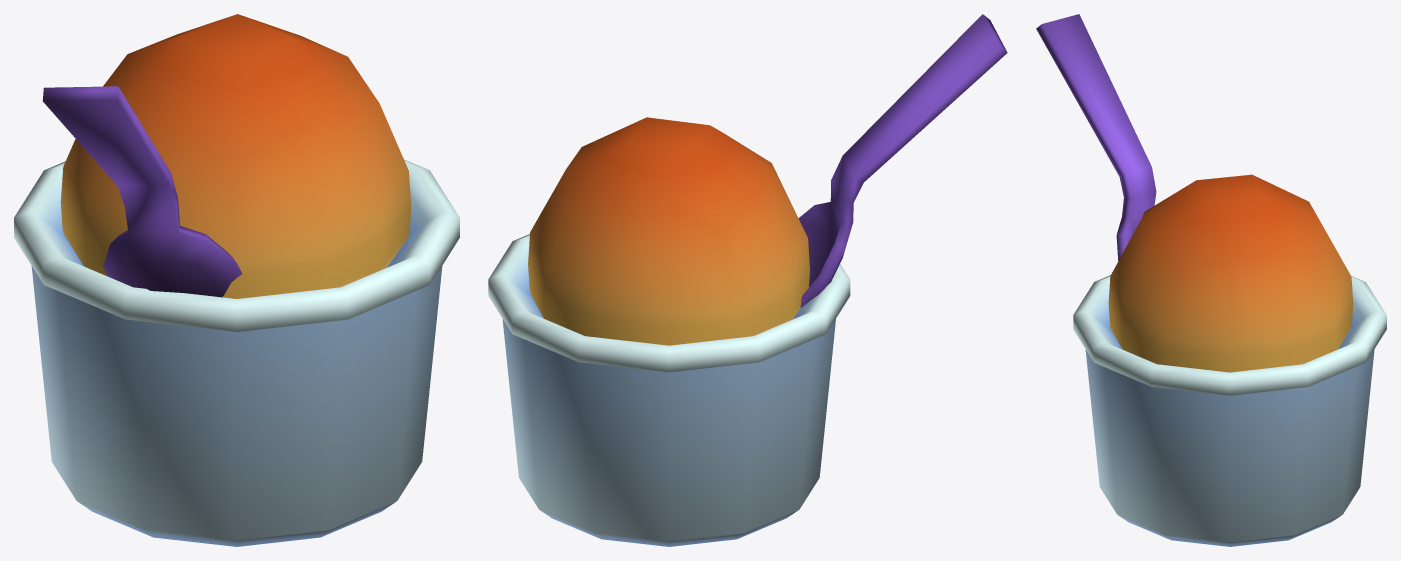
Rendered from m_ShavedIce05.fbx.
3 renders of one model, left to right at view 1: azimuth 30°, elevation 25°; view 2: azimuth 150°, elevation 25°; view 3: azimuth 270°, elevation 25°, orthographic. The views are drawn at different scales.
Visible parts, largest first — view 1: m_ShavedIce05; view 2: m_ShavedIce05; view 3: m_ShavedIce05.
Boxes of the visible parts, x1,y1,x2,y2 form: m_ShavedIce05: (14,14,459,546); m_ShavedIce05: (488,14,1007,546); m_ShavedIce05: (1036,14,1386,546).
Bounding box in the file's own units: 17.63 × 18.57 × 15.27.
